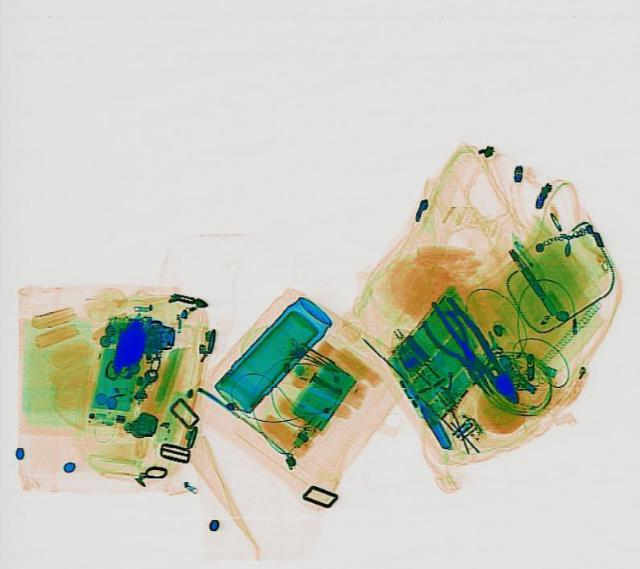Pliers: (426, 289, 528, 409), (418, 303, 508, 403)
